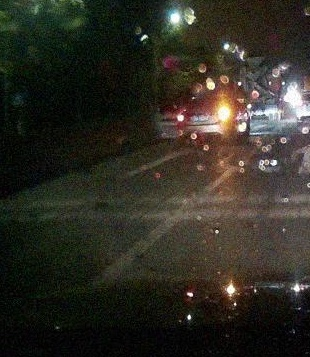L_light: (177, 114, 193, 122)
R_light: (210, 108, 230, 116)
T_light: (204, 97, 215, 99)
night-no: (176, 94, 234, 145)
